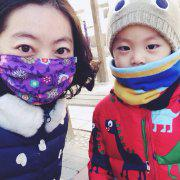NONE: (113, 34, 171, 86)
OK: (1, 30, 74, 102)
